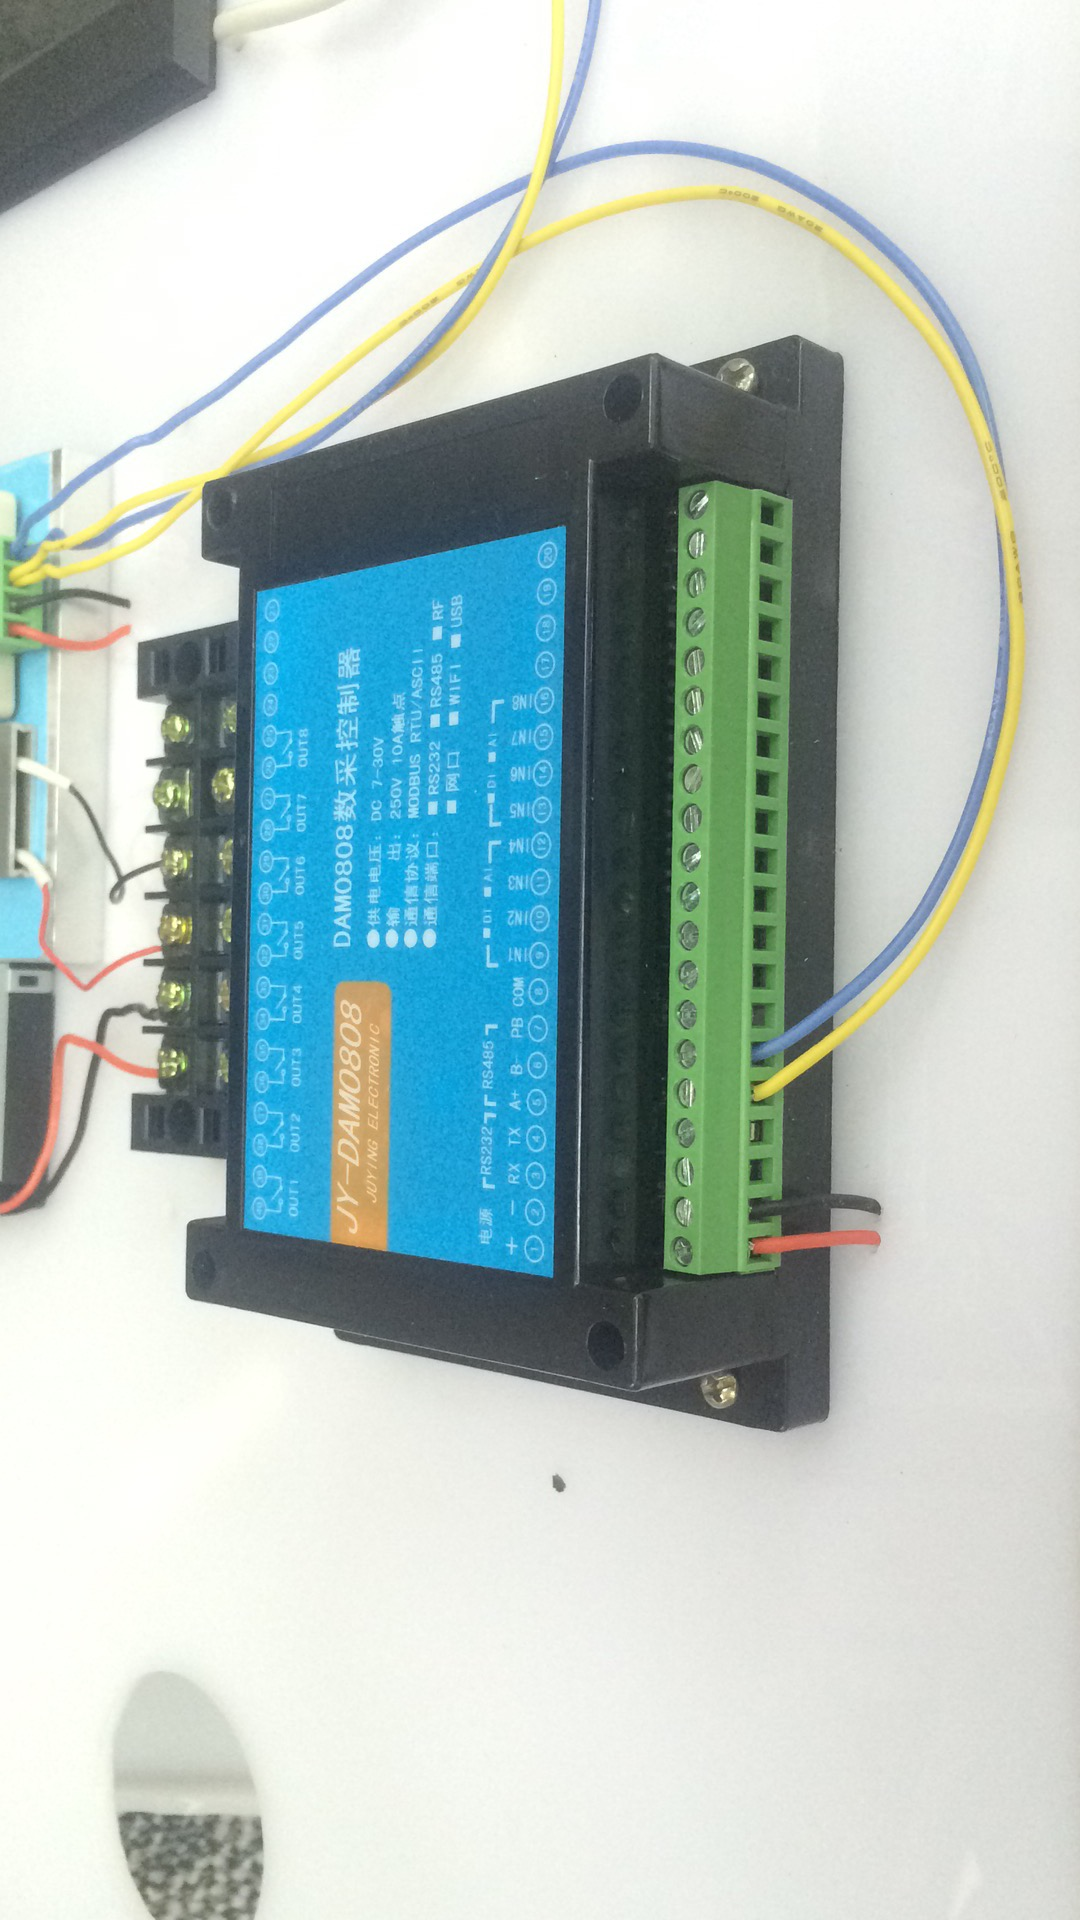relay: (177, 330, 843, 1448)
